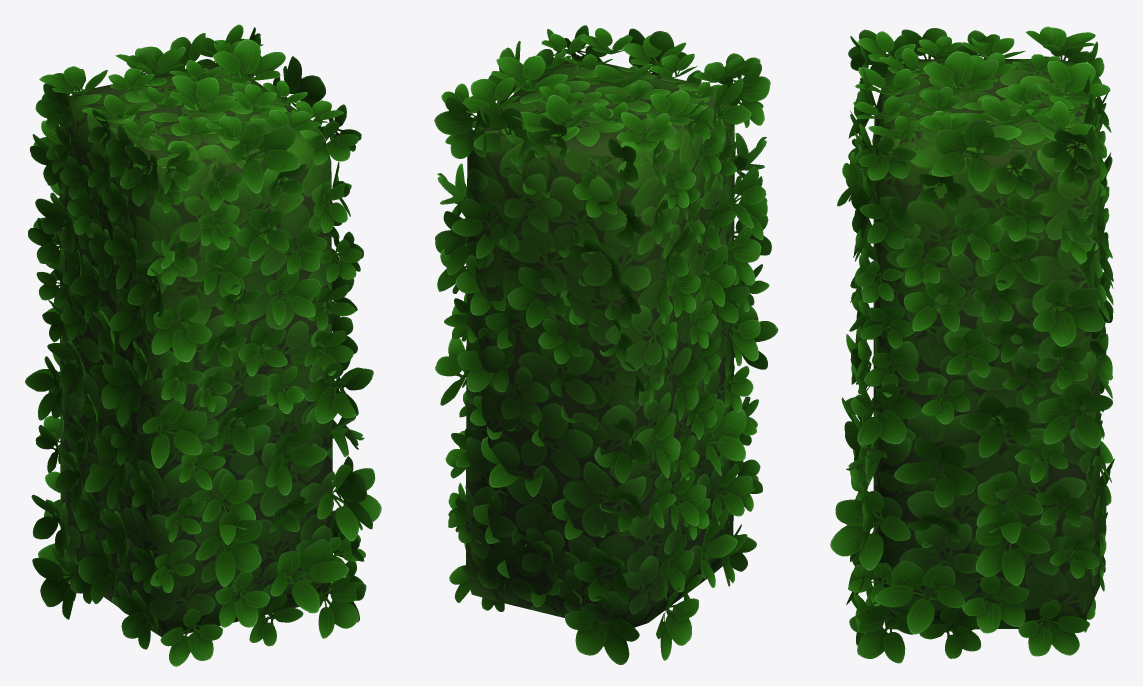
The model's file is SE_Hedge_04.fbx.
3 views of the same model, side by side, from view 1: azimuth 30°, elevation 25°; view 2: azimuth 150°, elevation 25°; view 3: azimuth 270°, elevation 25° (orthographic). The views are drawn at different scales.
Parts seen in each view (by area): view 1: SE_Hedge_04; view 2: SE_Hedge_04; view 3: SE_Hedge_04.
Boxes of the visible parts, <box> form: SE_Hedge_04: <box>25,24,381,666</box>; SE_Hedge_04: <box>434,25,778,664</box>; SE_Hedge_04: <box>830,26,1114,663</box>.
Size of the model in its own units: 2.94 by 5.98 by 2.94.
